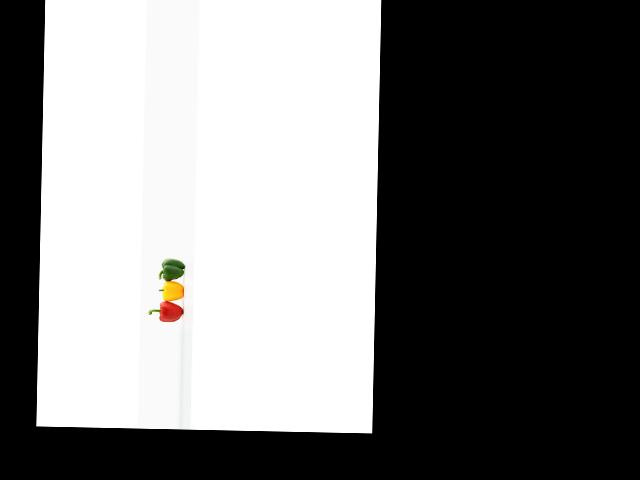bell_pepper: (145, 298, 187, 328)
